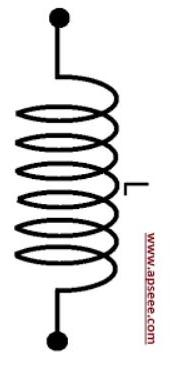inductor: (9, 50, 126, 293)
